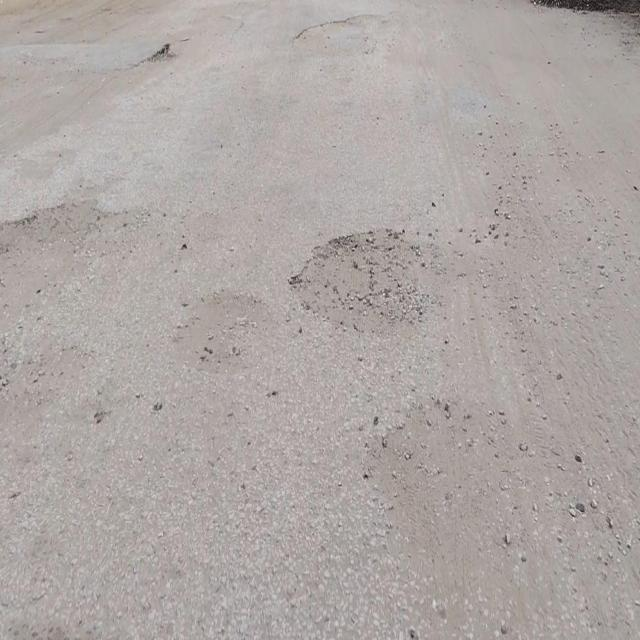Potholes: (285, 227, 443, 343), (291, 12, 388, 56)
